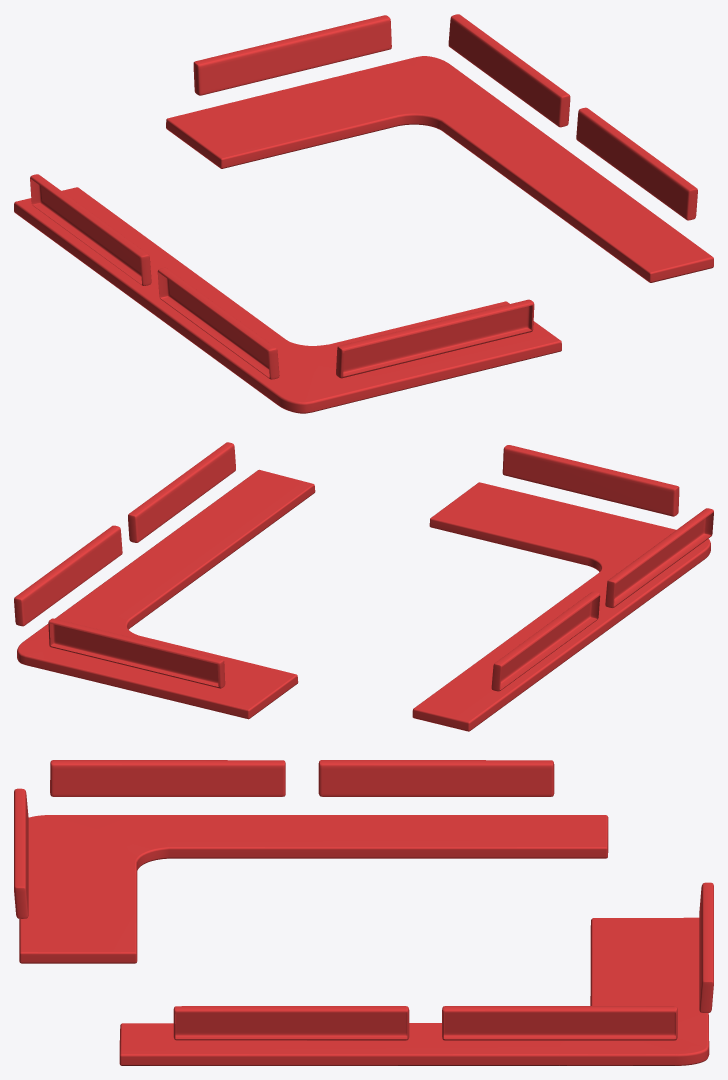
The model's file is SofaCushion_Mesh.fbx.
3 views of the same model, one above another, from view 1: azimuth 30°, elevation 25°; view 2: azimuth 150°, elevation 25°; view 3: azimuth 270°, elevation 25° (orthographic). The views are drawn at different scales.
Visible parts, largest first — view 1: SofaCushion_Mesh; view 2: SofaCushion_Mesh; view 3: SofaCushion_Mesh.
Boxes of the visible parts, left/top/right/bottom form: SofaCushion_Mesh: left=14, top=14, right=713, bottom=413; SofaCushion_Mesh: left=14, top=442, right=713, bottom=731; SofaCushion_Mesh: left=14, top=760, right=713, bottom=1065.
Bounding box in the file's own units: 576 × 66.48 × 679.
